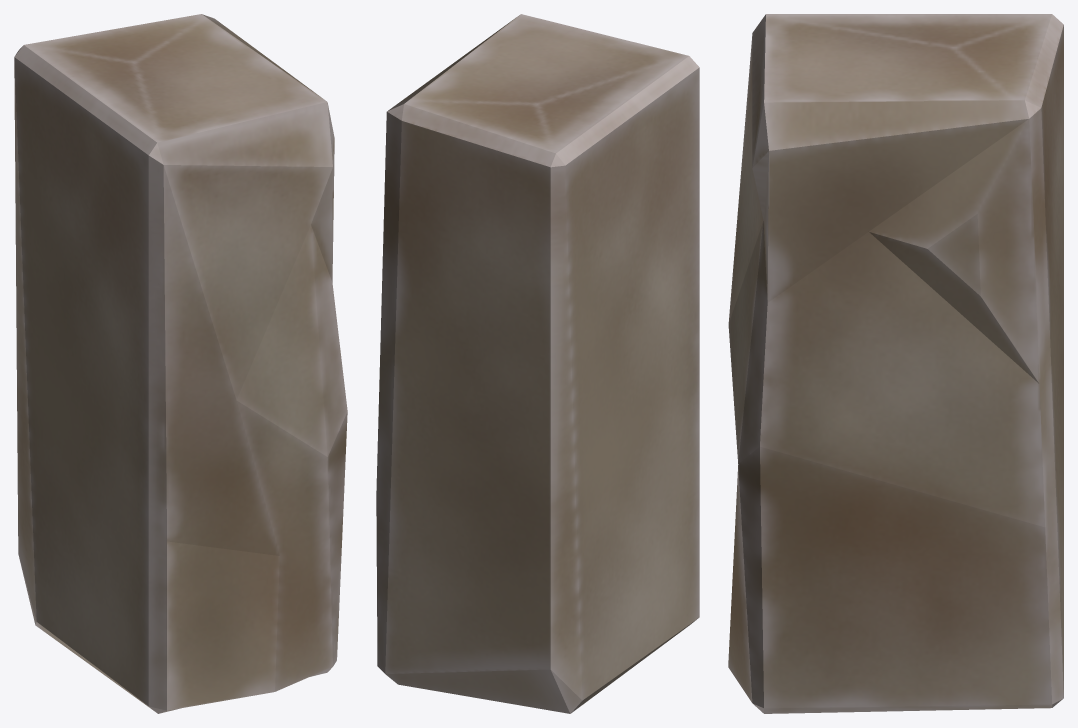
File: rock wall.fbx
3 views of the same model, side by side, from view 1: azimuth 30°, elevation 25°; view 2: azimuth 150°, elevation 25°; view 3: azimuth 270°, elevation 25° (orthographic). The views are drawn at different scales.
Visible parts, largest first — view 1: polySurface408; view 2: polySurface408; view 3: polySurface408.
Part boxes in pixels (x1=…): polySurface408: x1=14, y1=14, x2=347, y2=713; polySurface408: x1=376, y1=14, x2=699, y2=713; polySurface408: x1=728, y1=14, x2=1063, y2=713.
Size of the model in its own units: 2.34 by 6.45 by 3.21.
1 material, 1 textured.
